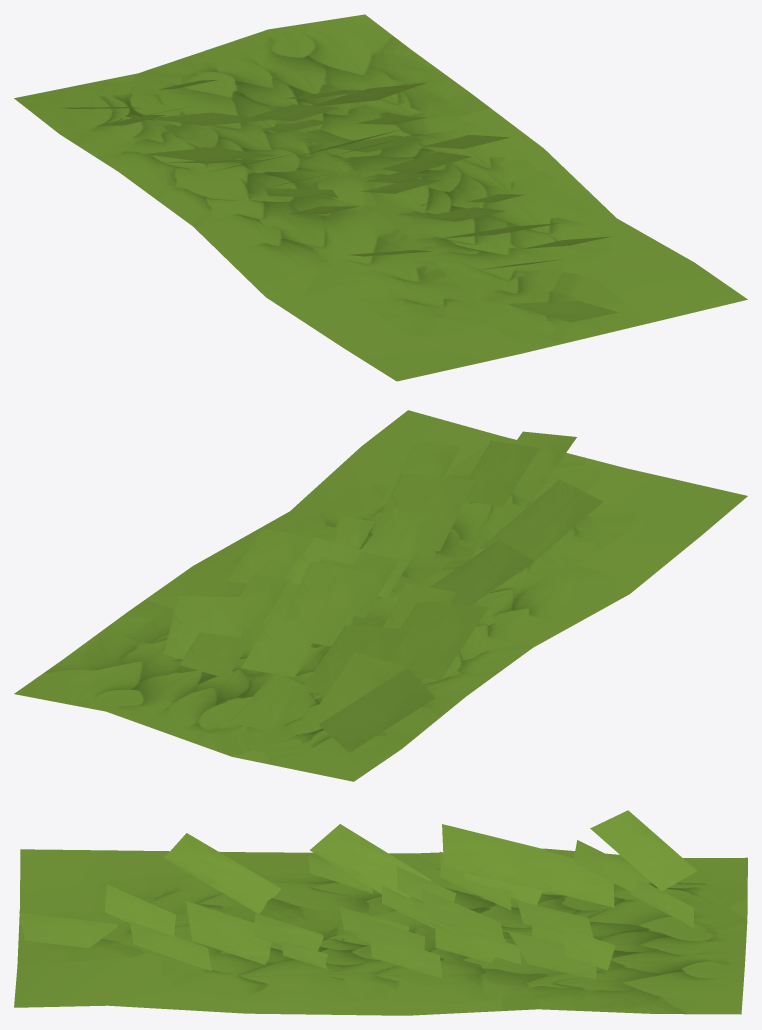
Rendered from V_leaves_foliage.FBX.
The picture shows the model from 3 angles, top to bottom: view 1: azimuth 30°, elevation 25°; view 2: azimuth 150°, elevation 25°; view 3: azimuth 270°, elevation 25°; orthographic projection. The views are drawn at different scales.
Visible parts, largest first — view 1: Plane009; view 2: Plane009; view 3: Plane009.
Boxes of the visible parts, bbox=[...] form: Plane009: bbox=[14, 14, 747, 381]; Plane009: bbox=[14, 410, 747, 781]; Plane009: bbox=[14, 810, 747, 1015].
Bounding box in the file's own units: 157 × 27.36 × 293.
